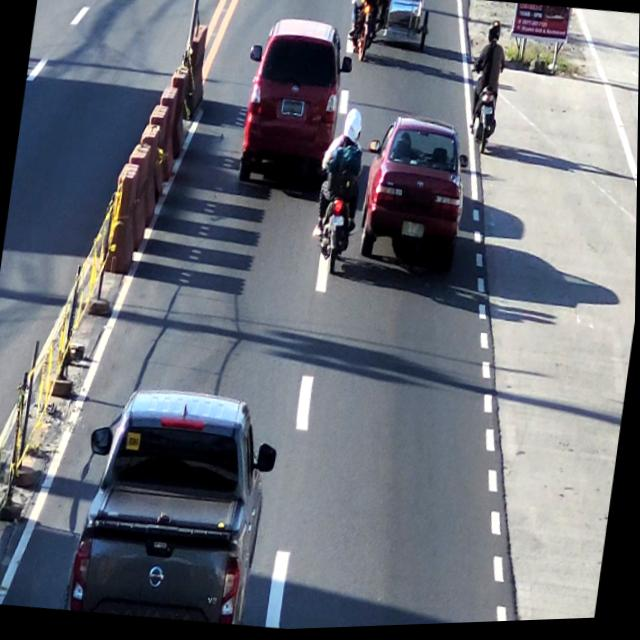Car: (65, 382, 281, 632), (355, 114, 490, 294), (235, 10, 344, 188)
License-Plate: (279, 97, 308, 120), (399, 221, 426, 243), (477, 106, 496, 121), (329, 217, 345, 228)
Motorcycle: (311, 111, 372, 281), (463, 29, 513, 159)
Tricycle: (348, 0, 431, 72)
